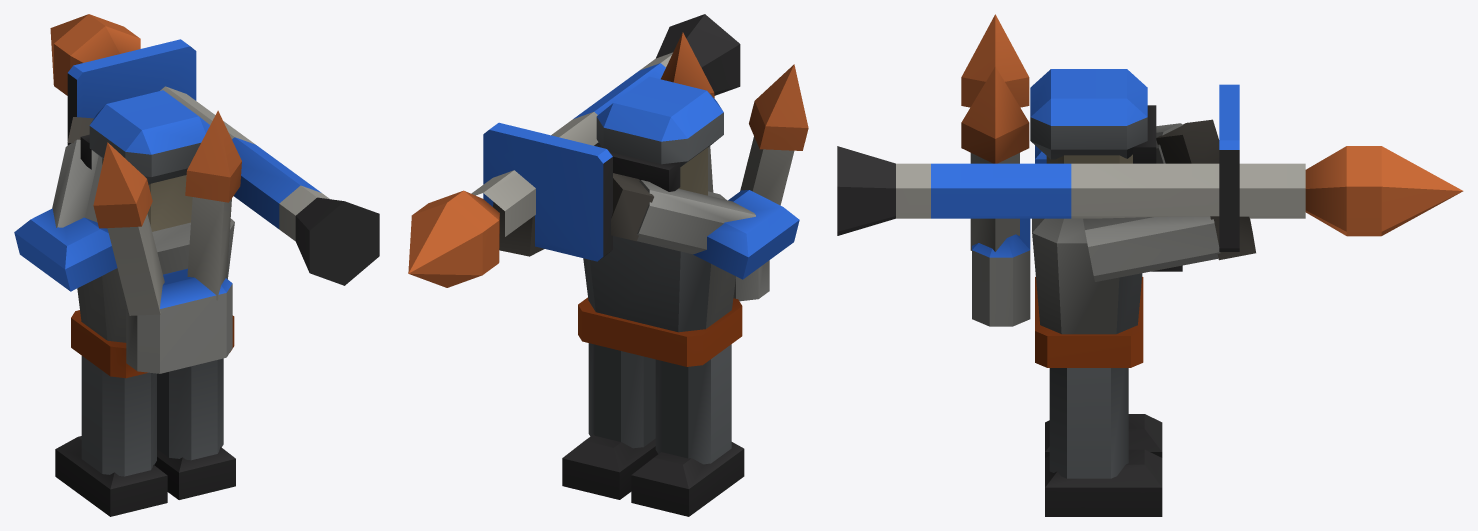
3 renders of one model, left to right at view 1: azimuth 30°, elevation 25°; view 2: azimuth 150°, elevation 25°; view 3: azimuth 270°, elevation 25°, orthographic. The views are drawn at different scales.
Visible parts, largest first — view 1: body, swingL_legL, swingR_legR, swingR_armL; view 2: body, swingL_legL, swingR_legR, swingR_armL, swingL_armR; view 3: body, swingR_legR, swingL_armR, swingR_armL, swingL_legL.
Part boxes in pixels (x1,y1,x2,y2): body: (14, 14, 379, 378); swingL_legL: (55, 356, 167, 516); swingR_legR: (154, 358, 235, 499); swingR_armL: (52, 117, 102, 227); body: (408, 14, 808, 366); swingL_legL: (631, 344, 744, 516); swingR_legR: (562, 343, 658, 499); swingR_armL: (611, 173, 755, 254); swingL_armR: (493, 202, 544, 256); body: (837, 14, 1463, 367); swingR_legR: (1045, 368, 1162, 516); swingL_armR: (1083, 216, 1255, 281); swingR_armL: (1156, 119, 1219, 163); swingL_legL: (1045, 414, 1162, 457).
Size of the model in its own units: 0.4658 by 0.8091 by 1.07.
